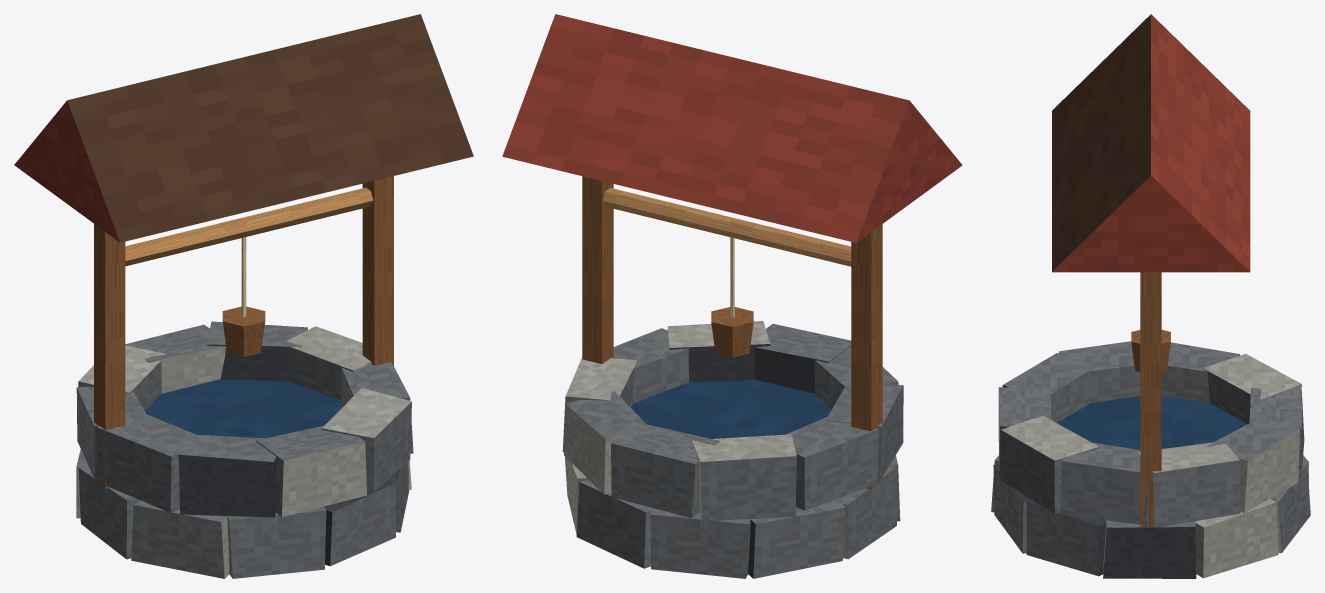
Rendered from well.glb.
3 views of the same model, side by side, from view 1: azimuth 30°, elevation 25°; view 2: azimuth 150°, elevation 25°; view 3: azimuth 270°, elevation 25° (orthographic). The views are drawn at different scales.
Visible parts, largest first — view 1: well; view 2: well; view 3: well.
Boxes of the visible parts, x1,y1,x2,y2 form: well: (14, 14, 473, 578); well: (502, 14, 962, 578); well: (991, 14, 1310, 578).
Bounding box in the file's own units: 2.5 × 3.05 × 2.09.
1 material, 1 textured.
